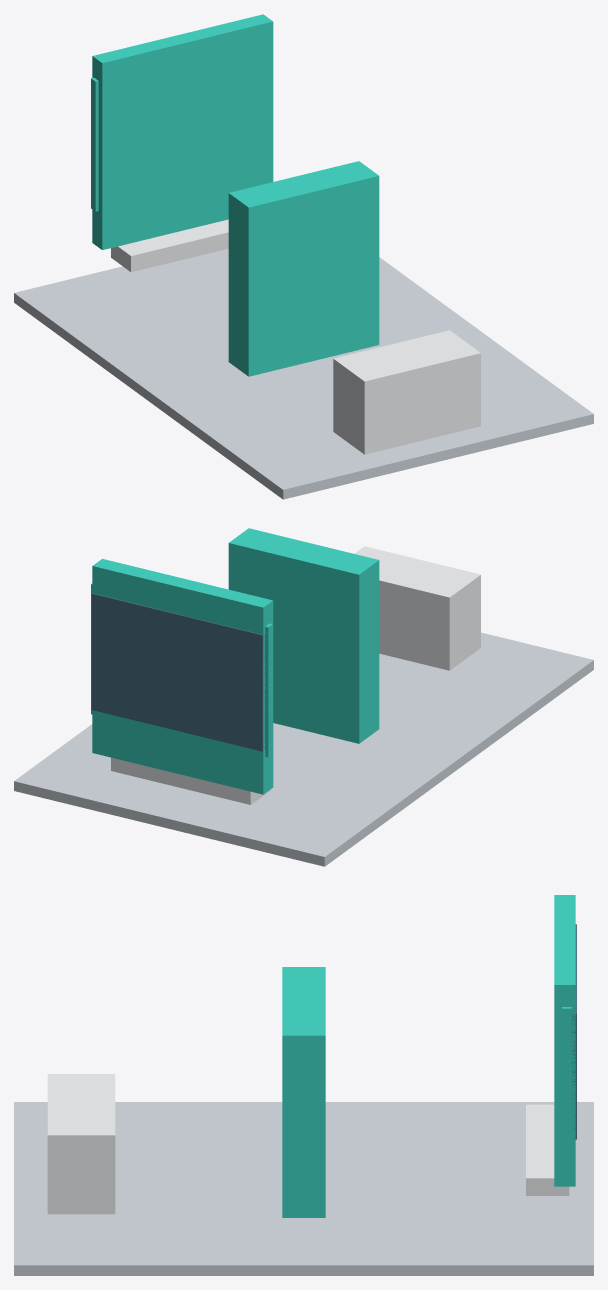
3 renders of one model, top to bottom at view 1: azimuth 30°, elevation 25°; view 2: azimuth 150°, elevation 25°; view 3: azimuth 270°, elevation 25°, orthographic. The views are drawn at different scales.
Visible parts, largest first — view 1: Exhibition Booth Concept; view 2: Exhibition Booth Concept; view 3: Exhibition Booth Concept.
Boxes of the visible parts, box(x1,y1,x2,y2) form: Exhibition Booth Concept: box(14, 14, 593, 499); Exhibition Booth Concept: box(14, 528, 593, 866); Exhibition Booth Concept: box(14, 895, 593, 1275).
Bounding box in the file's own units: 4 × 2.9 × 6.
